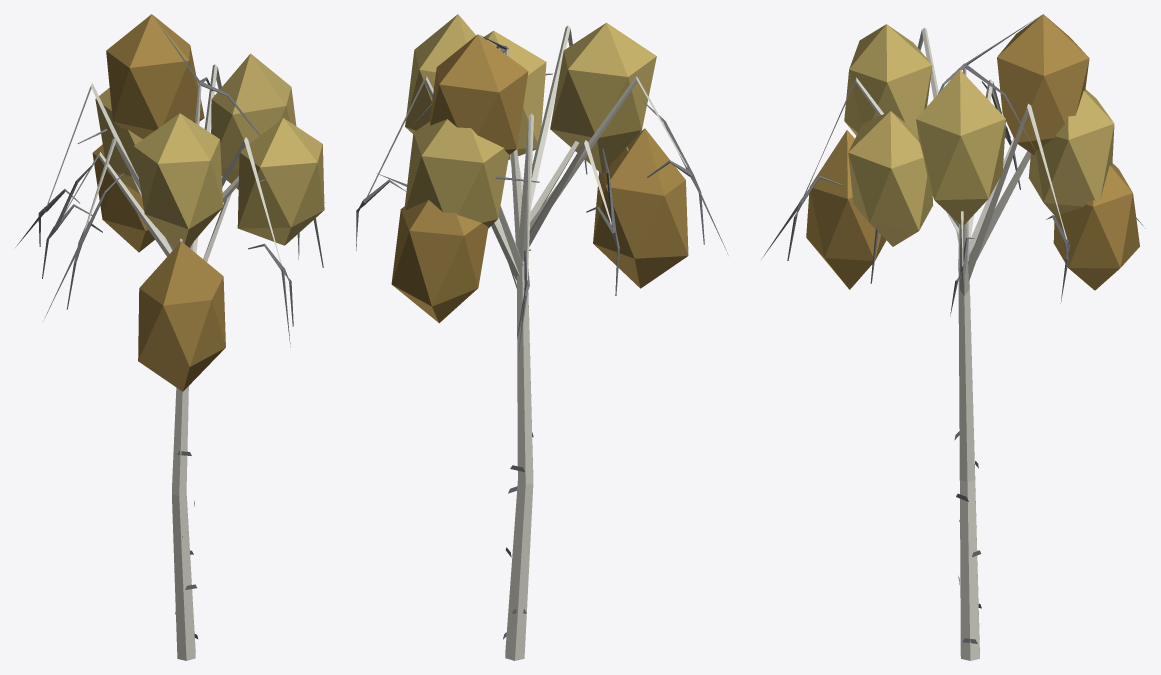
The model's file is birch_autumn_late_03.glb.
3 views of the same model, side by side, from view 1: azimuth 30°, elevation 25°; view 2: azimuth 150°, elevation 25°; view 3: azimuth 270°, elevation 25° (orthographic). The views are drawn at different scales.
Parts seen in each view (by area): view 1: Birch_autumn_late_03; view 2: Birch_autumn_late_03; view 3: Birch_autumn_late_03.
Boxes of the visible parts, x1,y1,x2,y2 form: Birch_autumn_late_03: (15, 14, 325, 660); Birch_autumn_late_03: (356, 14, 728, 660); Birch_autumn_late_03: (761, 14, 1145, 660).
Bounding box in the file's own units: 8.5 × 16.03 × 8.75.
